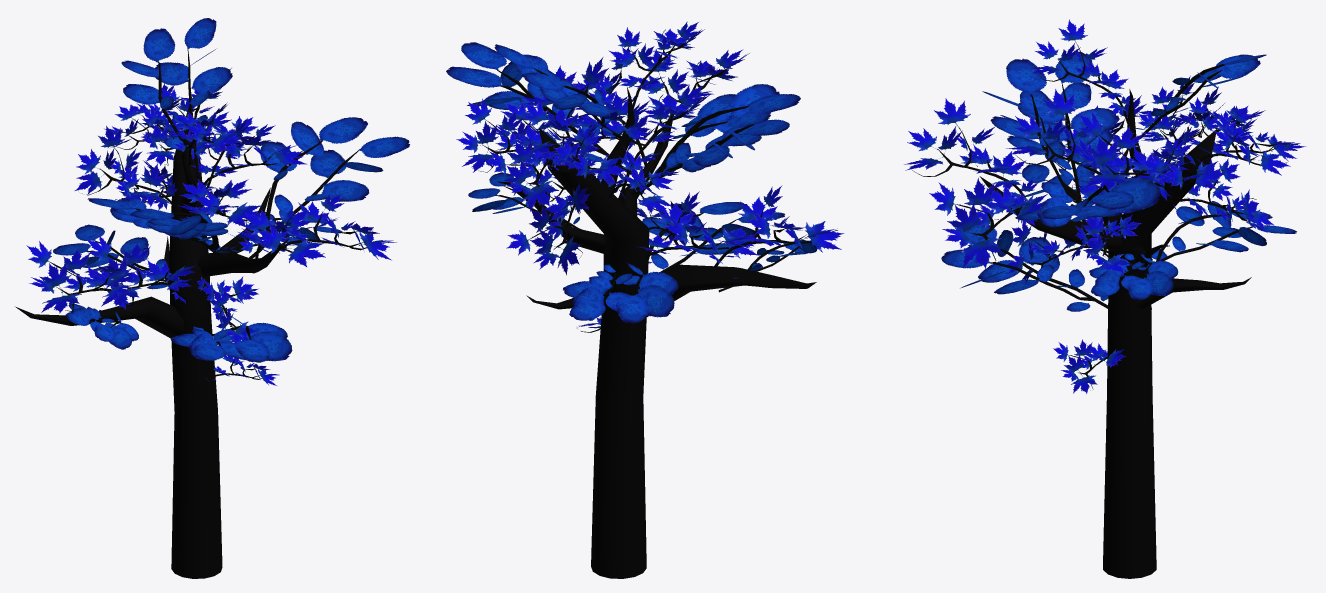
Rendered from bluetree9.fbx.
3 views of the same model, side by side, from view 1: azimuth 30°, elevation 25°; view 2: azimuth 150°, elevation 25°; view 3: azimuth 270°, elevation 25° (orthographic). The views are drawn at different scales.
Visible parts, largest first — view 1: purpletrees:pCylinder116; view 2: purpletrees:pCylinder116; view 3: purpletrees:pCylinder116.
Part boxes in pixels (<box>): purpletrees:pCylinder116: <box>15,18,409,578</box>; purpletrees:pCylinder116: <box>446,21,844,578</box>; purpletrees:pCylinder116: <box>904,19,1306,578</box>.
Size of the model in its own units: 35.41 by 45.33 by 32.55.
